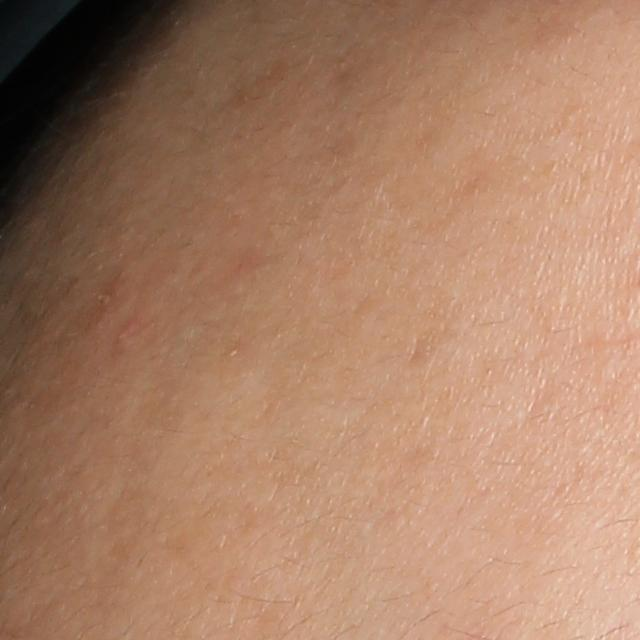papule: (111, 317, 142, 355)
